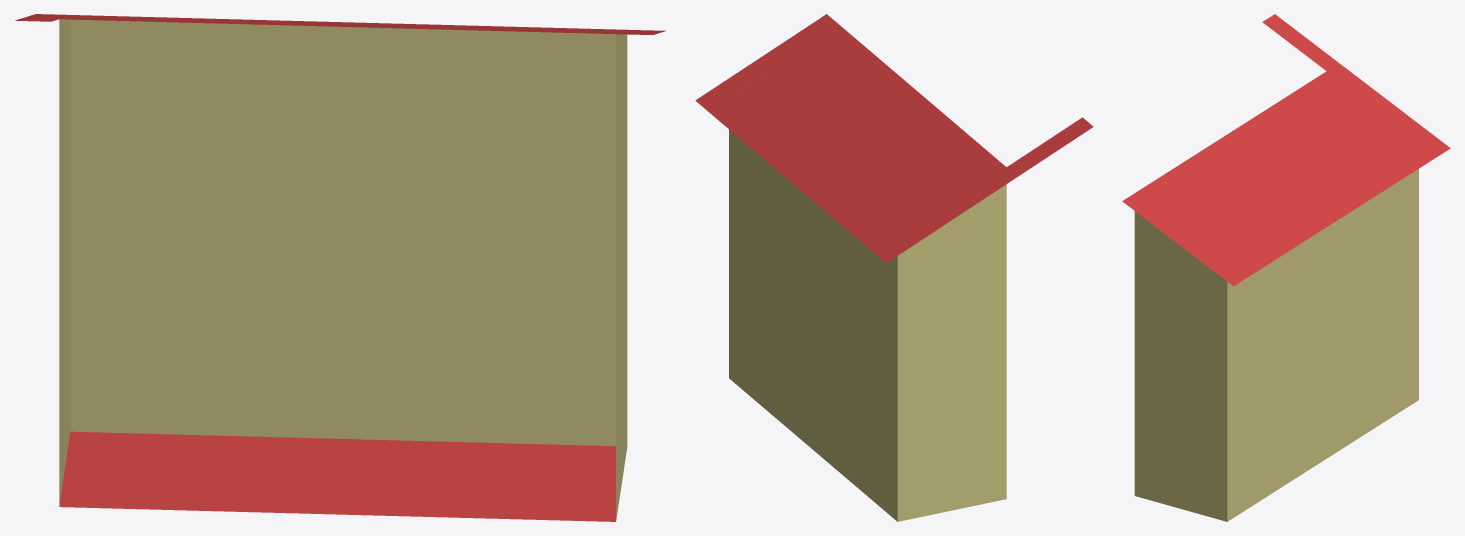
The picture shows the model from 3 angles, left to right: view 1: azimuth 30°, elevation 25°; view 2: azimuth 150°, elevation 25°; view 3: azimuth 270°, elevation 25°; orthographic projection. The views are drawn at different scales.
Bounding box in the file's own units: 9.66 × 7.15 × 8.02.
